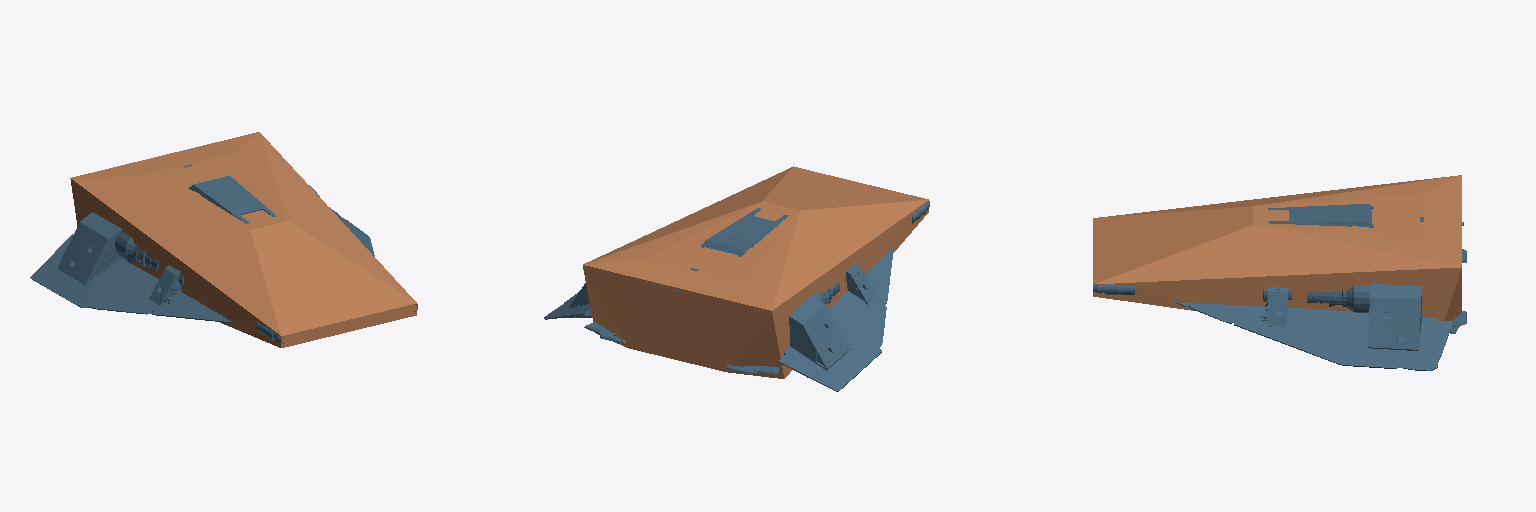
The model's file is snowspeeder.obj.
3 renders of one model, left to right at view 1: azimuth 30°, elevation 25°; view 2: azimuth 150°, elevation 25°; view 3: azimuth 270°, elevation 25°, orthographic.
Visible parts, largest first — view 1: reb_snowspeeder_physics, reb_snowspeeder_snowspeeder; view 2: reb_snowspeeder_physics, reb_snowspeeder_snowspeeder; view 3: reb_snowspeeder_physics, reb_snowspeeder_snowspeeder.
Part boxes in pixels (left/top/right/bottom): reb_snowspeeder_physics: left=70, top=132, right=416, bottom=347; reb_snowspeeder_snowspeeder: left=30, top=164, right=417, bottom=343; reb_snowspeeder_physics: left=583, top=166, right=928, bottom=378; reb_snowspeeder_snowspeeder: left=544, top=201, right=929, bottom=391; reb_snowspeeder_physics: left=1093, top=175, right=1461, bottom=320; reb_snowspeeder_snowspeeder: left=1093, top=204, right=1466, bottom=370.
Bounding box in the file's own units: 305 × 85.42 × 333.